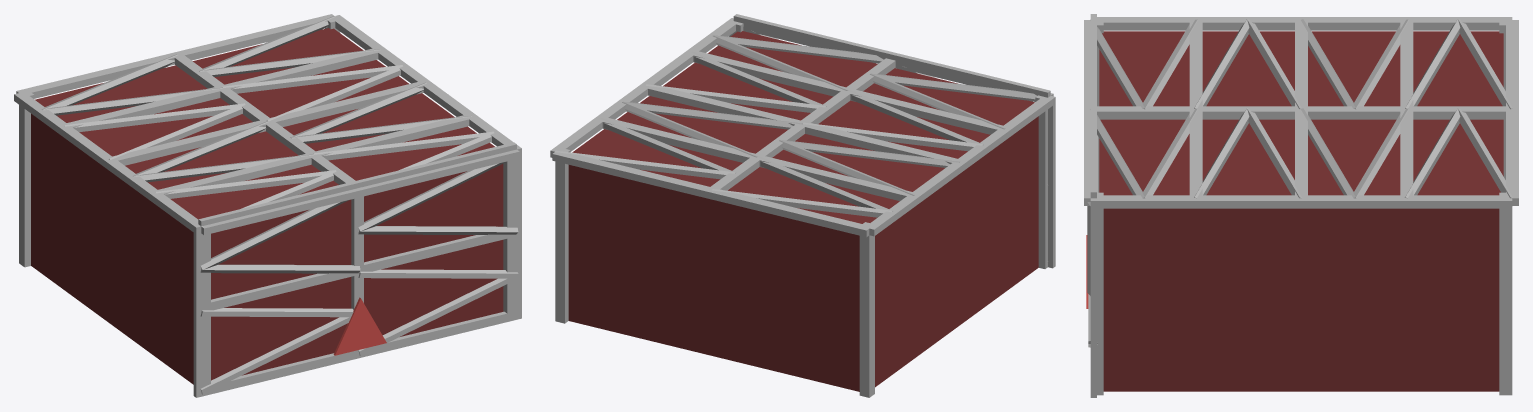
File: vge_explosives_crate_a.obj
3 views of the same model, side by side, from view 1: azimuth 30°, elevation 25°; view 2: azimuth 150°, elevation 25°; view 3: azimuth 270°, elevation 25° (orthographic). The views are drawn at different scales.
Visible parts, largest first — view 1: vge_explosives_crate_a_0, vge_explosives_crate_a_9, vge_explosives_crate_a_5, vge_explosives_crate_a_7, vge_explosives_crate_a_30, vge_explosives_crate_a_29, vge_explosives_crate_a_8, vge_explosives_crate_a_6, vge_explosives_crate_a_10, vge_explosives_crate_a_31, vge_explosives_crate_a_12, vge_explosives_crate_a_11 (+31 smaller); view 2: vge_explosives_crate_a_0, vge_explosives_crate_a_9, vge_explosives_crate_a_6, vge_explosives_crate_a_7, vge_explosives_crate_a_8, vge_explosives_crate_a_10, vge_explosives_crate_a_31, vge_explosives_crate_a_12, vge_explosives_crate_a_2, vge_explosives_crate_a_11, vge_explosives_crate_a_4, vge_explosives_crate_a_1 (+18 smaller); view 3: vge_explosives_crate_a_0, vge_explosives_crate_a_12, vge_explosives_crate_a_11, vge_explosives_crate_a_10, vge_explosives_crate_a_4, vge_explosives_crate_a_8, vge_explosives_crate_a_6, vge_explosives_crate_a_9, vge_explosives_crate_a_7, vge_explosives_crate_a_3, vge_explosives_crate_a_34, vge_explosives_crate_a_31 (+18 smaller).
Part boxes in pixels (left/top/right/bottom): vge_explosives_crate_a_0: left=31, top=28, right=503, bottom=384; vge_explosives_crate_a_9: left=16, top=14, right=335, bottom=98; vge_explosives_crate_a_5: left=201, top=149, right=519, bottom=235; vge_explosives_crate_a_7: left=107, top=81, right=427, bottom=165; vge_explosives_crate_a_30: left=201, top=234, right=507, bottom=311; vge_explosives_crate_a_29: left=202, top=311, right=507, bottom=396; vge_explosives_crate_a_8: left=62, top=47, right=382, bottom=127; vge_explosives_crate_a_6: left=153, top=114, right=473, bottom=194; vge_explosives_crate_a_10: left=14, top=93, right=201, bottom=234; vge_explosives_crate_a_31: left=198, top=142, right=516, bottom=226; vge_explosives_crate_a_12: left=334, top=15, right=521, bottom=154; vge_explosives_crate_a_11: left=172, top=53, right=355, bottom=184; vge_explosives_crate_a_0: left=568, top=31, right=1038, bottom=391; vge_explosives_crate_a_9: left=552, top=150, right=869, bottom=237; vge_explosives_crate_a_6: left=689, top=50, right=1007, bottom=134; vge_explosives_crate_a_7: left=643, top=83, right=962, bottom=164; vge_explosives_crate_a_8: left=598, top=118, right=915, bottom=200; vge_explosives_crate_a_10: left=866, top=96, right=1055, bottom=236; vge_explosives_crate_a_31: left=733, top=14, right=1050, bottom=97; vge_explosives_crate_a_12: left=550, top=18, right=737, bottom=157; vge_explosives_crate_a_2: left=859, top=222, right=874, bottom=397; vge_explosives_crate_a_11: left=709, top=58, right=895, bottom=190; vge_explosives_crate_a_4: left=555, top=148, right=570, bottom=323; vge_explosives_crate_a_1: left=1035, top=95, right=1047, bottom=268; vge_explosives_crate_a_0: left=1099, top=31, right=1503, bottom=391; vge_explosives_crate_a_12: left=1090, top=195, right=1512, bottom=208; vge_explosives_crate_a_11: left=1097, top=106, right=1512, bottom=119; vge_explosives_crate_a_10: left=1097, top=17, right=1512, bottom=30; vge_explosives_crate_a_4: left=1499, top=192, right=1512, bottom=395; vge_explosives_crate_a_8: left=1400, top=20, right=1413, bottom=198; vge_explosives_crate_a_6: left=1189, top=20, right=1202, bottom=198; vge_explosives_crate_a_9: left=1506, top=20, right=1518, bottom=205; vge_explosives_crate_a_7: left=1295, top=20, right=1307, bottom=198; vge_explosives_crate_a_3: left=1097, top=192, right=1103, bottom=395; vge_explosives_crate_a_34: left=1090, top=198, right=1096, bottom=397; vge_explosives_crate_a_31: left=1090, top=14, right=1096, bottom=198.
Size of the model in its own units: 2 by 1.03 by 2.
